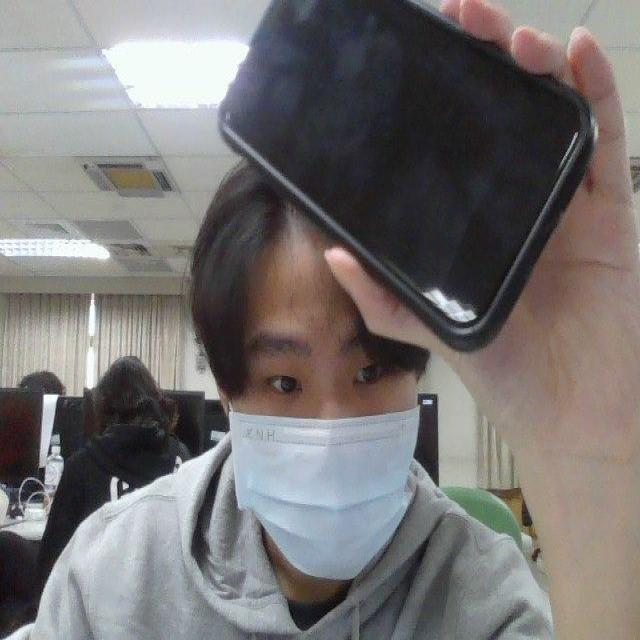ph: (202, 0, 614, 360)
